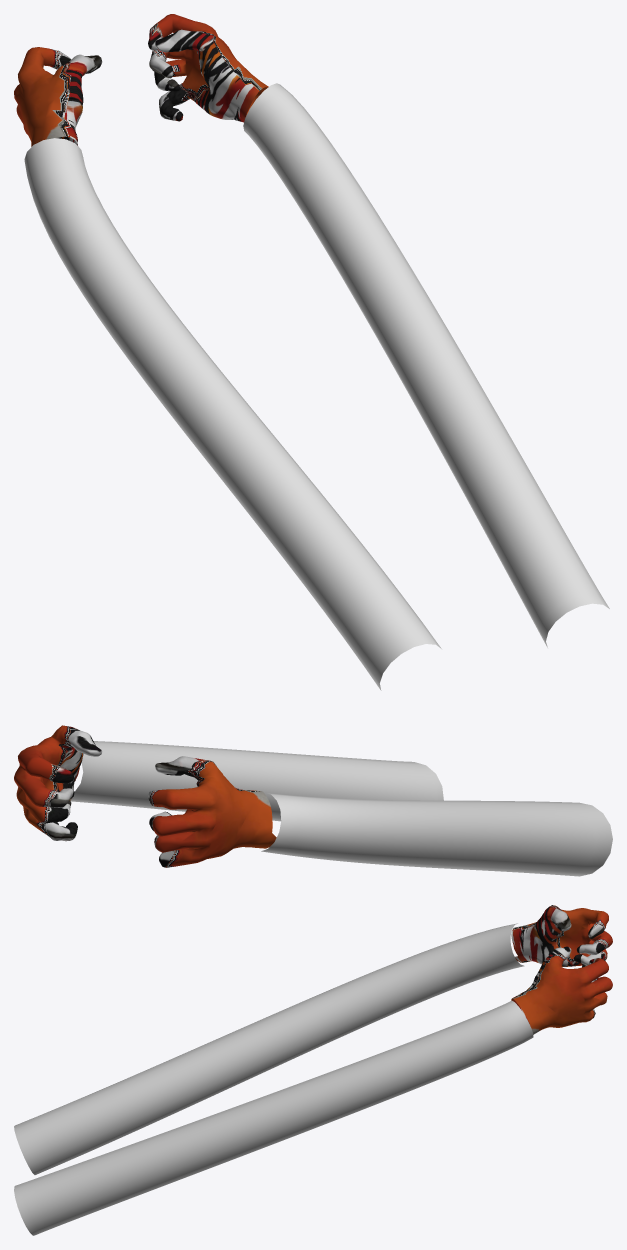
File: fpa_berettas.glb
3 renders of one model, top to bottom at view 1: azimuth 30°, elevation 25°; view 2: azimuth 150°, elevation 25°; view 3: azimuth 270°, elevation 25°, orthographic. The views are drawn at different scales.
Parts seen in each view (by area): view 1: arms, hands; view 2: arms, hands; view 3: arms, hands.
Part boxes in pixels (<box>): arms: <box>24,83,609,690</box>; hands: <box>14,14,268,146</box>; arms: <box>70,741,612,876</box>; hands: <box>14,725,276,867</box>; arms: <box>14,923,533,1235</box>; hands: <box>511,905,612,1034</box>.
Size of the model in its own units: 0.4526 by 0.5539 by 1.1.
1 material, 1 textured.
